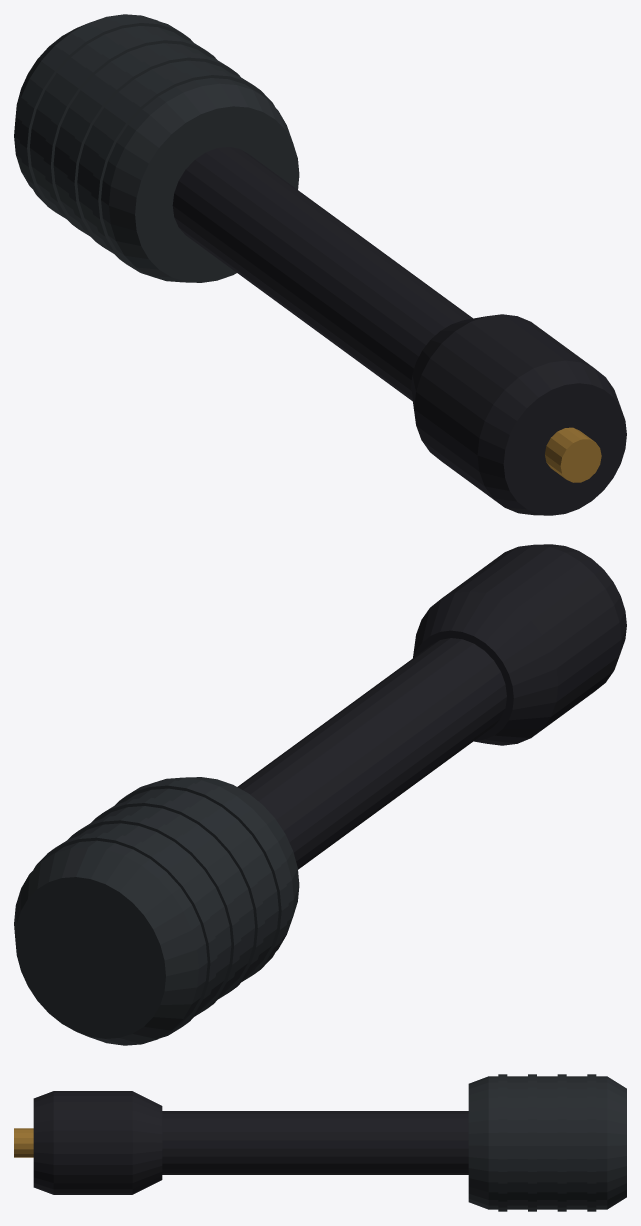
Rendered from estabilizador_curto_arco.glb.
3 renders of one model, top to bottom at view 1: azimuth 30°, elevation 25°; view 2: azimuth 150°, elevation 25°; view 3: azimuth 270°, elevation 25°, orthographic. The views are drawn at different scales.
Parts seen in each view (by area): view 1: estabilizador_curto_arco_aco_oxidado, estabilizador_curto_arco_fibra_preta, estabilizador_curto_arco_borracha, estabilizador_curto_arco_latao; view 2: estabilizador_curto_arco_aco_oxidado, estabilizador_curto_arco_fibra_preta, estabilizador_curto_arco_borracha; view 3: estabilizador_curto_arco_aco_oxidado, estabilizador_curto_arco_fibra_preta, estabilizador_curto_arco_borracha, estabilizador_curto_arco_latao.
Part boxes in pixels (box(x1,y1,x2,y2)): estabilizador_curto_arco_aco_oxidado: box(14, 14, 299, 282); estabilizador_curto_arco_fibra_preta: box(172, 147, 472, 400); estabilizador_curto_arco_borracha: box(411, 314, 626, 515); estabilizador_curto_arco_latao: box(545, 427, 601, 482); estabilizador_curto_arco_aco_oxidado: box(14, 777, 299, 1045); estabilizador_curto_arco_fibra_preta: box(237, 638, 506, 869); estabilizador_curto_arco_borracha: box(413, 544, 626, 745); estabilizador_curto_arco_aco_oxidado: box(468, 1074, 626, 1211); estabilizador_curto_arco_fibra_preta: box(162, 1111, 468, 1174); estabilizador_curto_arco_borracha: box(33, 1091, 162, 1194); estabilizador_curto_arco_latao: box(14, 1128, 33, 1157).
Bounding box in the file's own units: 0.0278 × 0.0278 × 0.124.
